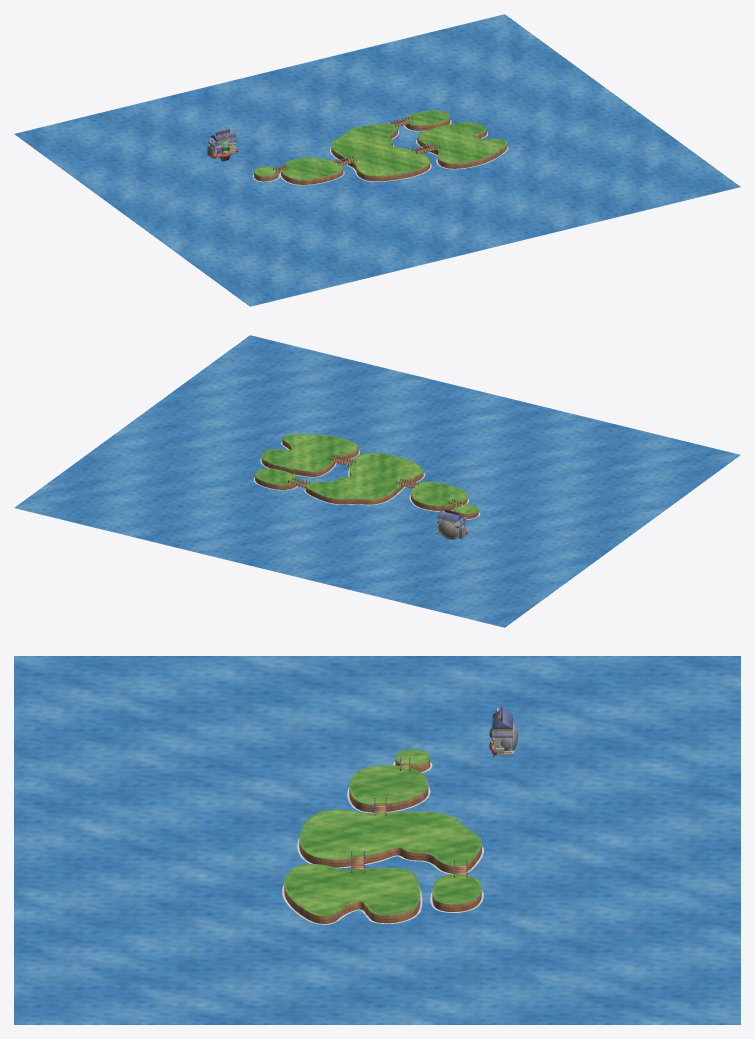
The model's file is kit.glb.
3 views of the same model, one above another, from view 1: azimuth 30°, elevation 25°; view 2: azimuth 150°, elevation 25°; view 3: azimuth 270°, elevation 25° (orthographic). The views are drawn at different scales.
Parts seen in each view (by area): view 1: sea, ground_land, bridges; view 2: sea, ground_land, bridges; view 3: sea, ground_land, bridges.
Boxes of the visible parts, bbox=[...] form: sea: bbox=[14, 14, 740, 306]; ground_land: bbox=[252, 110, 508, 185]; bridges: bbox=[273, 116, 439, 172]; sea: bbox=[14, 335, 740, 627]; ground_land: bbox=[253, 434, 479, 519]; bridges: bbox=[288, 454, 463, 506]; sea: bbox=[14, 656, 740, 1024]; ground_land: bbox=[282, 749, 483, 924]; bridges: bbox=[351, 757, 467, 877].
Size of the model in its own units: 60 by 3.5 by 50.
Materials: 11 (11 with a texture image).
